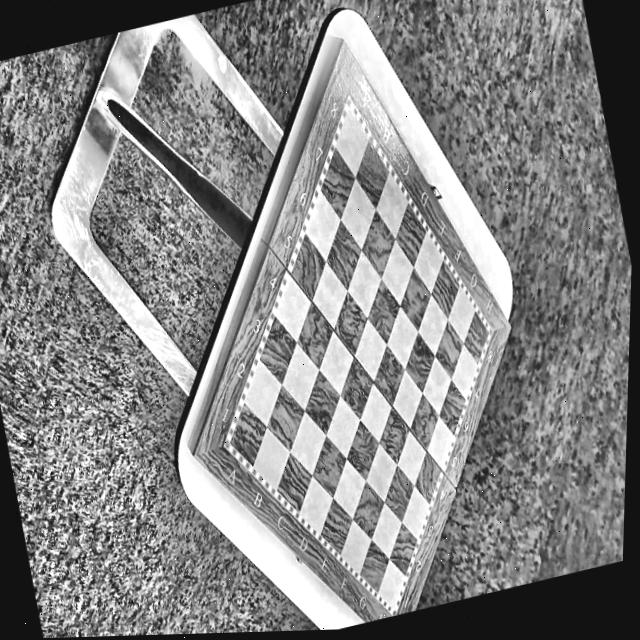chessboard: (229, 105, 488, 612)
